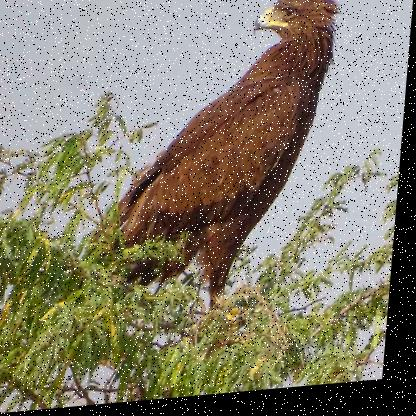Burung: (74, 0, 342, 324)
